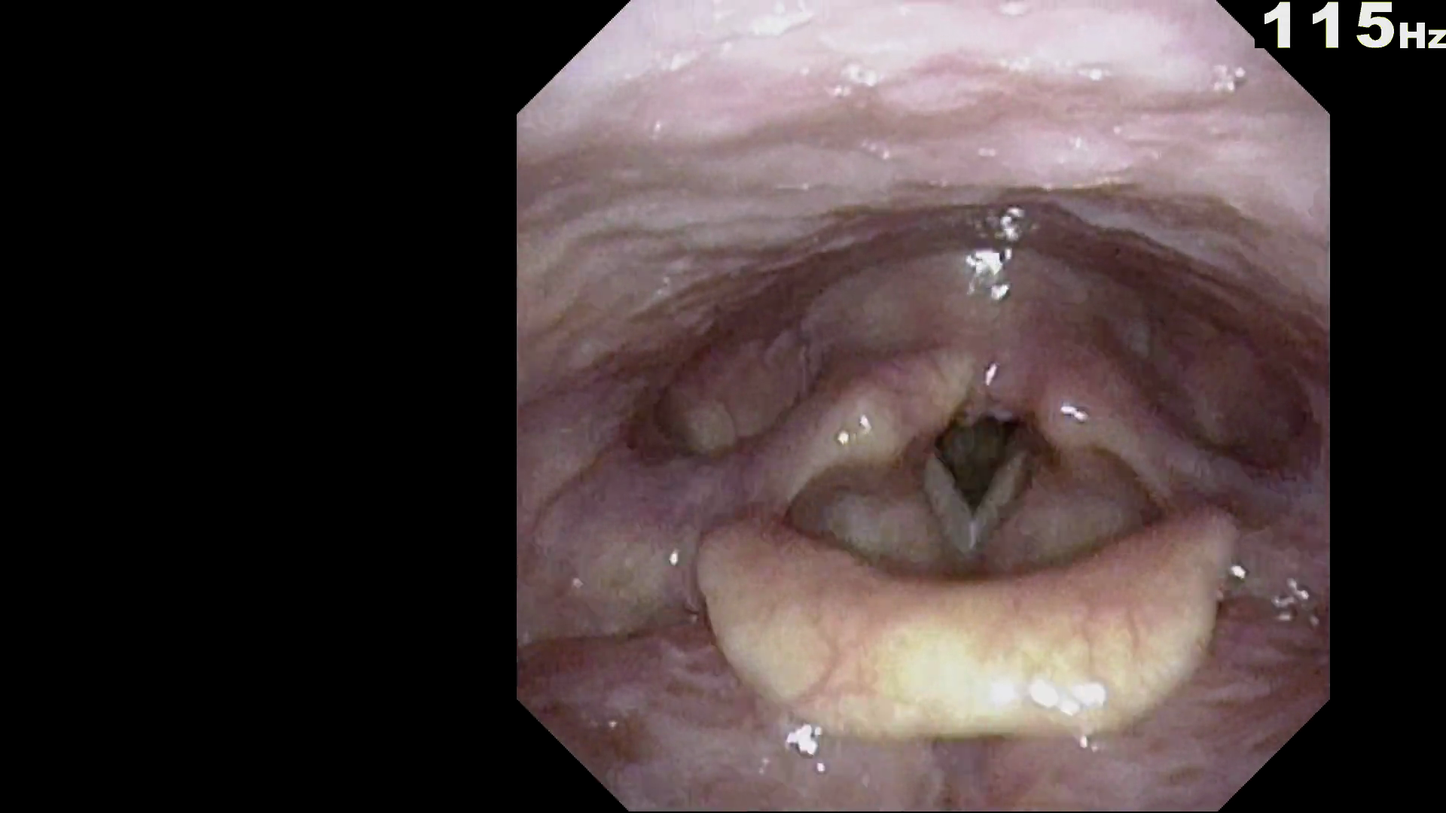epiglottis: (672, 485, 1272, 738)
trachea: (912, 418, 1041, 568)
